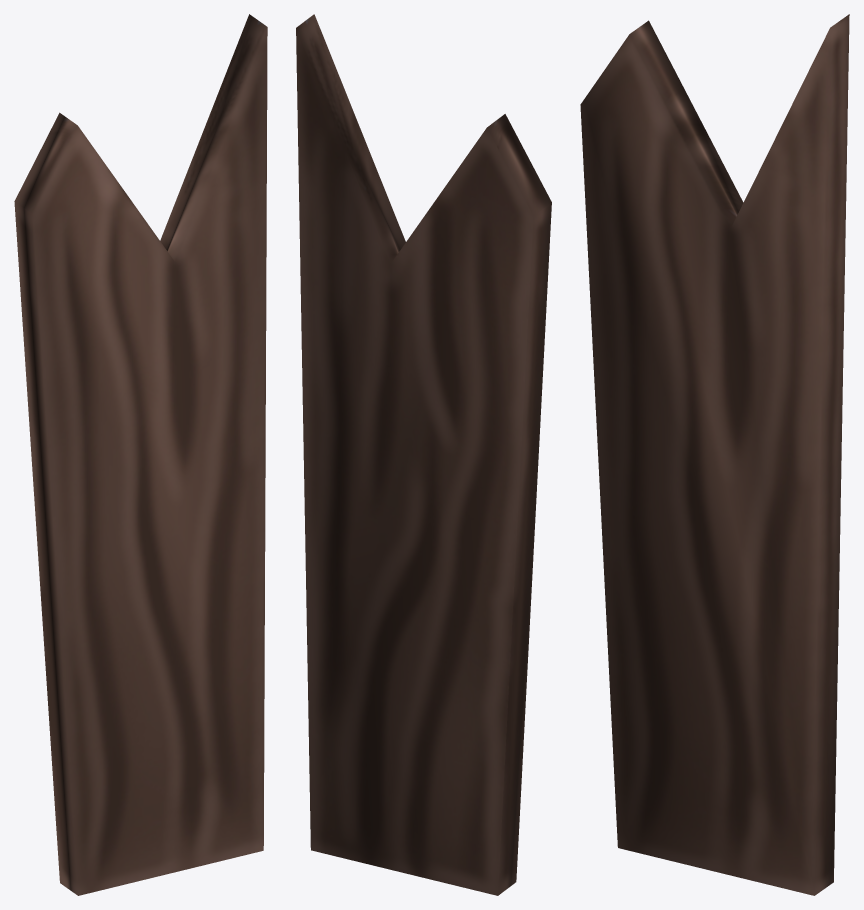
The model's file is particle_Wood02.fbx.
The picture shows the model from 3 angles, left to right: view 1: azimuth 30°, elevation 25°; view 2: azimuth 150°, elevation 25°; view 3: azimuth 330°, elevation 25°; orthographic projection. The views are drawn at different scales.
Visible parts, largest first — view 1: particle_Wood02; view 2: particle_Wood02; view 3: particle_Wood02.
Part boxes in pixels (bbox=[...]): particle_Wood02: bbox=[14, 14, 267, 895]; particle_Wood02: bbox=[296, 14, 551, 895]; particle_Wood02: bbox=[580, 14, 849, 895].
Bounding box in the file's own units: 19.09 × 63.41 × 3.36.
